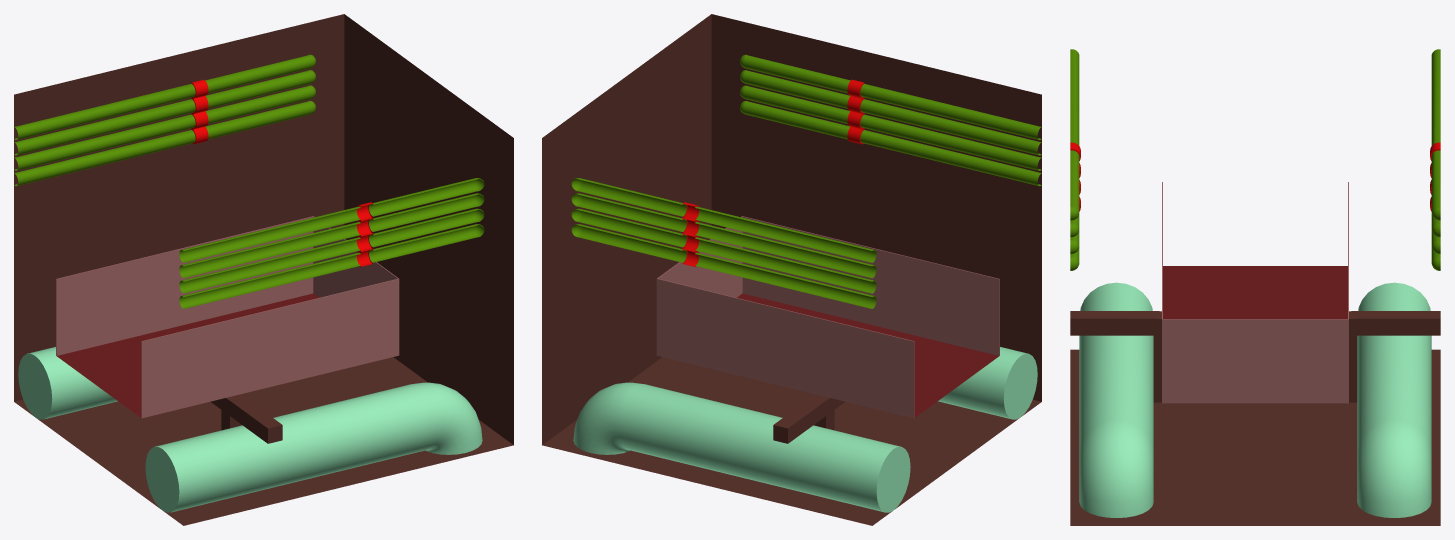
File: _eadEnd.fbx
The picture shows the model from 3 angles, left to right: view 1: azimuth 30°, elevation 25°; view 2: azimuth 150°, elevation 25°; view 3: azimuth 270°, elevation 25°; orthographic projection. The views are drawn at different scales.
Visible parts, largest first — view 1: DeadEnd; view 2: DeadEnd; view 3: DeadEnd.
Boxes of the visible parts, box(x1,y1,x2,y2) form: DeadEnd: box(14, 14, 513, 525); DeadEnd: box(542, 14, 1041, 525); DeadEnd: box(1070, 49, 1440, 525).
Bounding box in the file's own units: 4.5 × 4 × 4.
